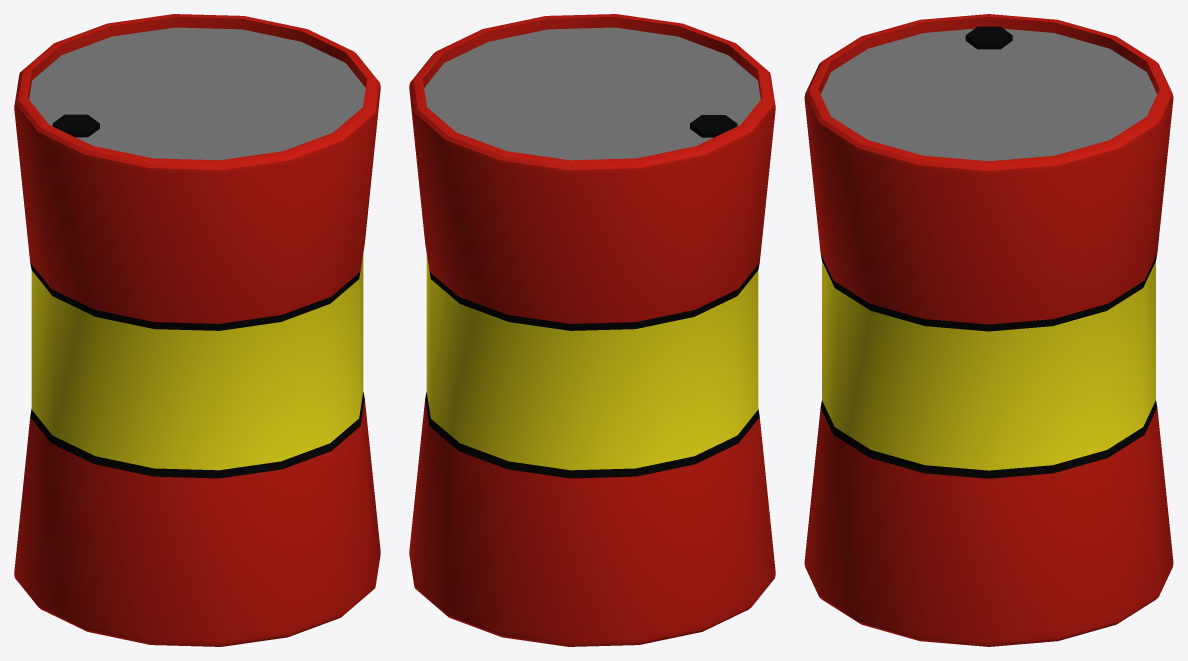
Rendered from Barrel.fbx.
3 views of the same model, side by side, from view 1: azimuth 30°, elevation 25°; view 2: azimuth 150°, elevation 25°; view 3: azimuth 270°, elevation 25° (orthographic).
Parts seen in each view (by area): view 1: Cylinder; view 2: Cylinder; view 3: Cylinder.
Boxes of the visible parts, x1,y1,x2,y2 form: Cylinder: (14, 14, 380, 646); Cylinder: (409, 14, 775, 646); Cylinder: (804, 14, 1173, 646).
Size of the model in its own units: 95.26 by 138 by 95.26.
